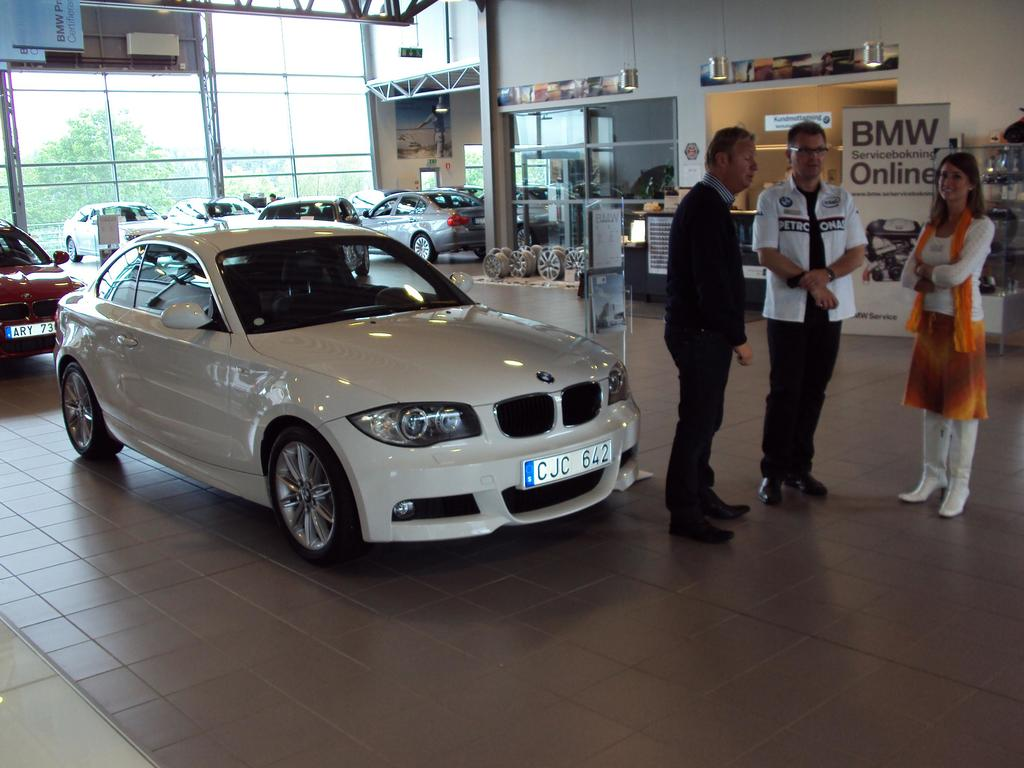Car: (55, 215, 641, 564), (3, 218, 76, 361), (365, 188, 488, 262), (264, 198, 368, 267), (66, 203, 170, 259), (185, 200, 262, 220)
